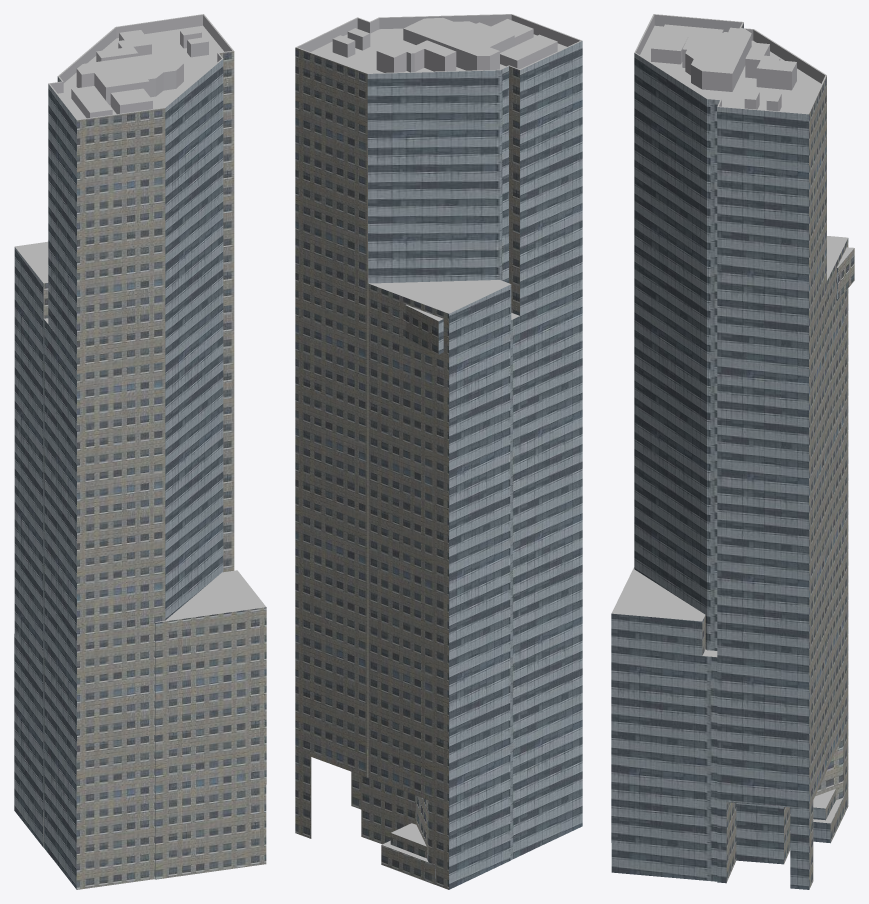
3 views of the same model, side by side, from view 1: azimuth 30°, elevation 25°; view 2: azimuth 150°, elevation 25°; view 3: azimuth 270°, elevation 25° (orthographic). The views are drawn at different scales.
Visible parts, largest first — view 1: geometry_0; view 2: geometry_0; view 3: geometry_0.
Part boxes in pixels (x1=…): geometry_0: x1=14, y1=14, x2=266, y2=889; geometry_0: x1=295, y1=14, x2=582, y2=889; geometry_0: x1=611, y1=14, x2=854, y2=889.
Size of the model in its own units: 49.04 by 178 by 50.17.
1 material, 1 textured.
